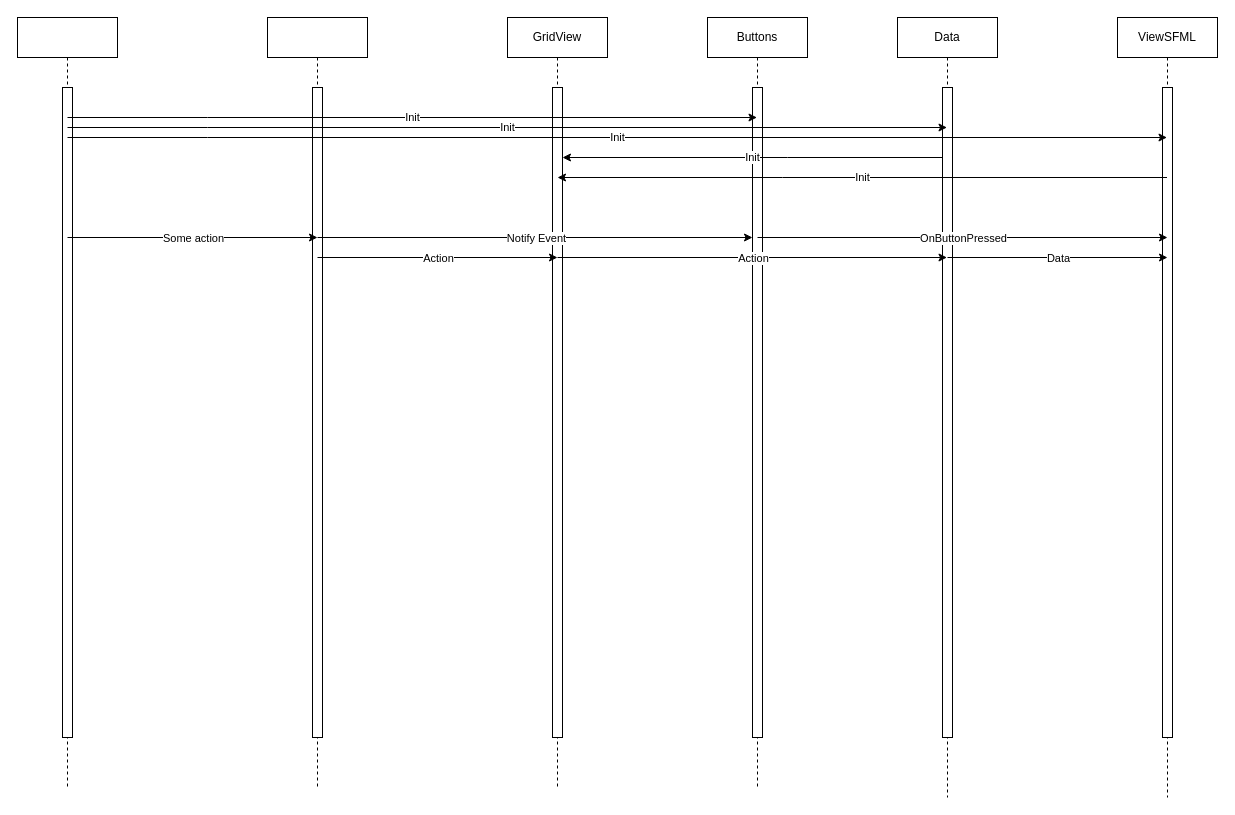
Image size: 1235x815. Some labels were removed from this diagram. Here are the shapes that lost their labels. From the top down, the box of each, then its label:
(16, 16, 118, 788): Client
(266, 16, 368, 788): InputObservable
